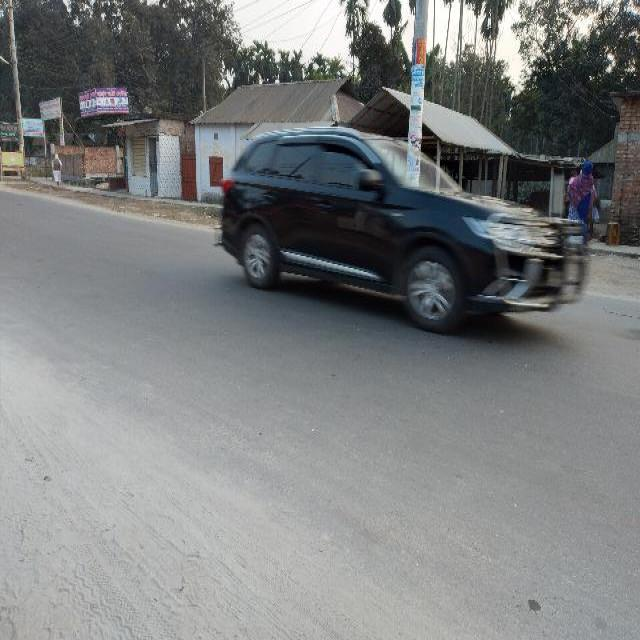car: (209, 124, 599, 339)
